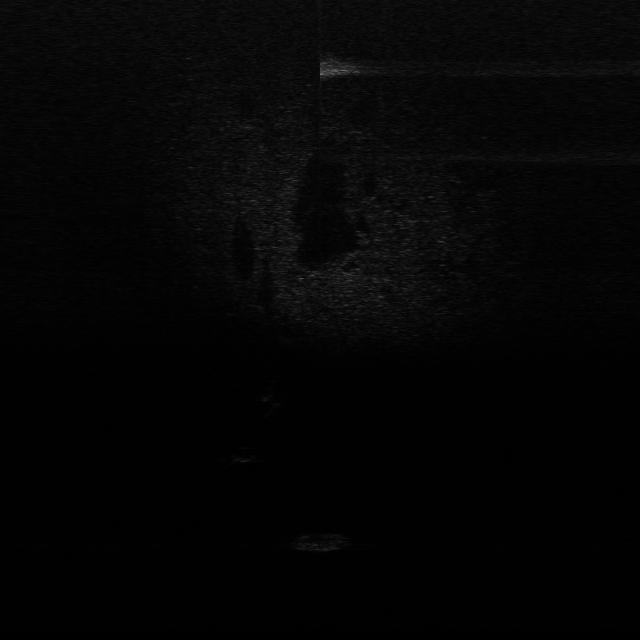ball: (223, 442, 258, 467)
circle cage: (292, 528, 353, 554)
human body: (262, 376, 283, 422)
